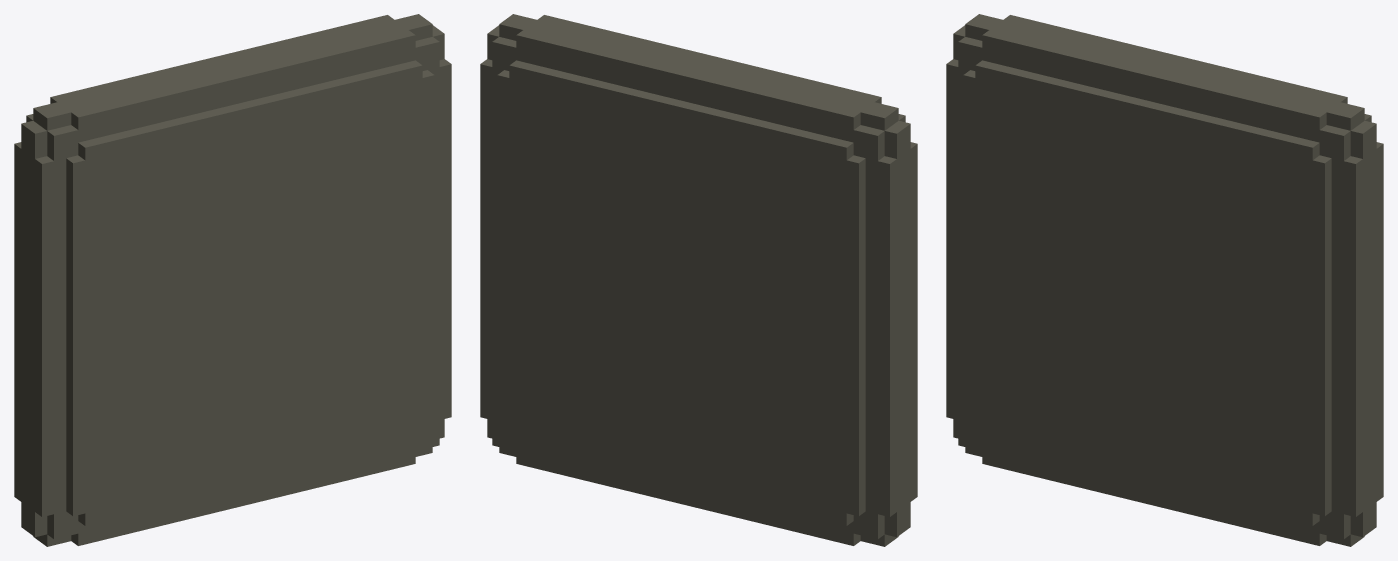
Rendered from factory4.3-21.obj.
3 views of the same model, side by side, from view 1: azimuth 30°, elevation 25°; view 2: azimuth 150°, elevation 25°; view 3: azimuth 330°, elevation 25° (orthographic).
Size of the model in its own units: 3.4 by 3.4 by 0.6.
Materials: 1 (1 with a texture image).
